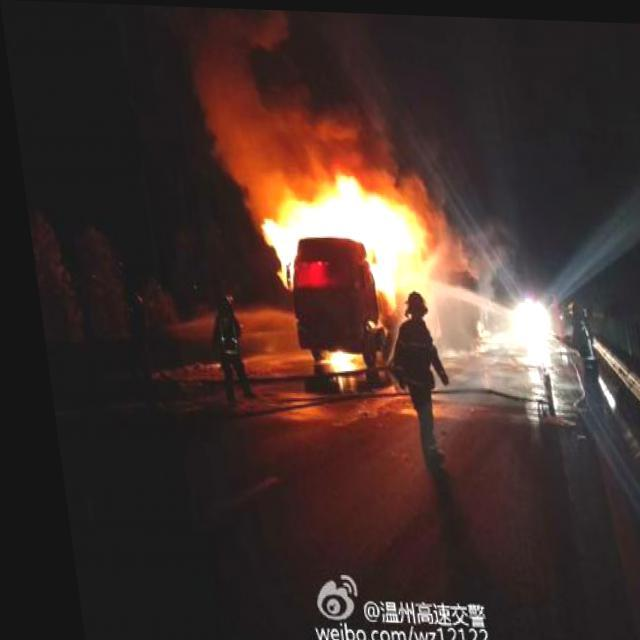Fire: (255, 178, 420, 298)
